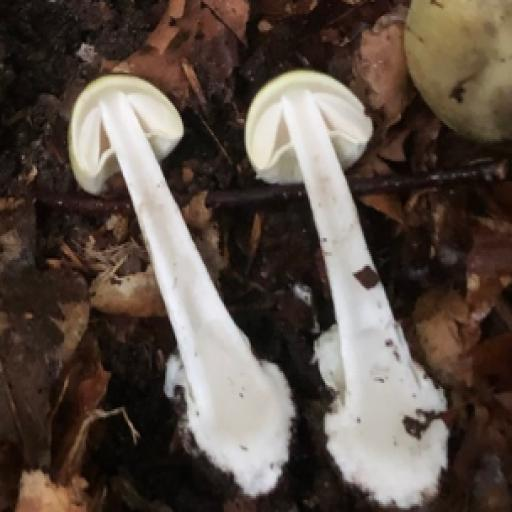Death Cap: (50, 63, 333, 507), (238, 58, 461, 512)
